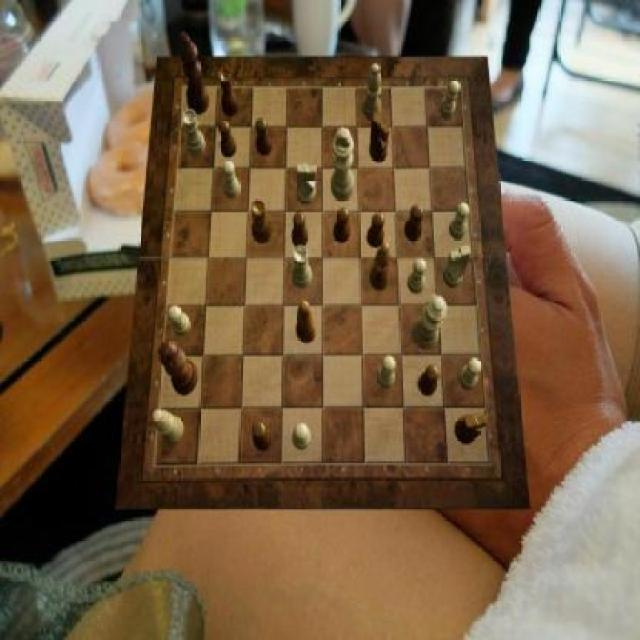bishop: (371, 242, 392, 290), (297, 300, 317, 344)
black-bishop: (180, 32, 211, 116)
black-king: (371, 114, 391, 163), (456, 414, 488, 444)
black-knight: (218, 120, 238, 158), (418, 365, 441, 397), (404, 204, 424, 240), (292, 211, 310, 248), (257, 117, 274, 155), (368, 212, 385, 248), (252, 422, 272, 452), (334, 208, 351, 242)
black-pawn: (158, 339, 200, 396)
black-queen: (218, 68, 240, 117), (251, 200, 271, 244)
black-rook: (152, 410, 185, 446), (363, 63, 381, 121)
white-bishop: (330, 128, 354, 202)
white-king: (443, 245, 471, 287), (296, 163, 316, 205)
white-knight: (440, 80, 460, 120), (449, 203, 470, 241), (458, 357, 481, 391), (168, 304, 190, 336), (223, 160, 241, 198), (377, 356, 397, 390), (408, 259, 427, 293), (292, 423, 312, 451)
white-pawn: (412, 295, 448, 350)
white-queen: (182, 109, 206, 157), (292, 244, 313, 288)
